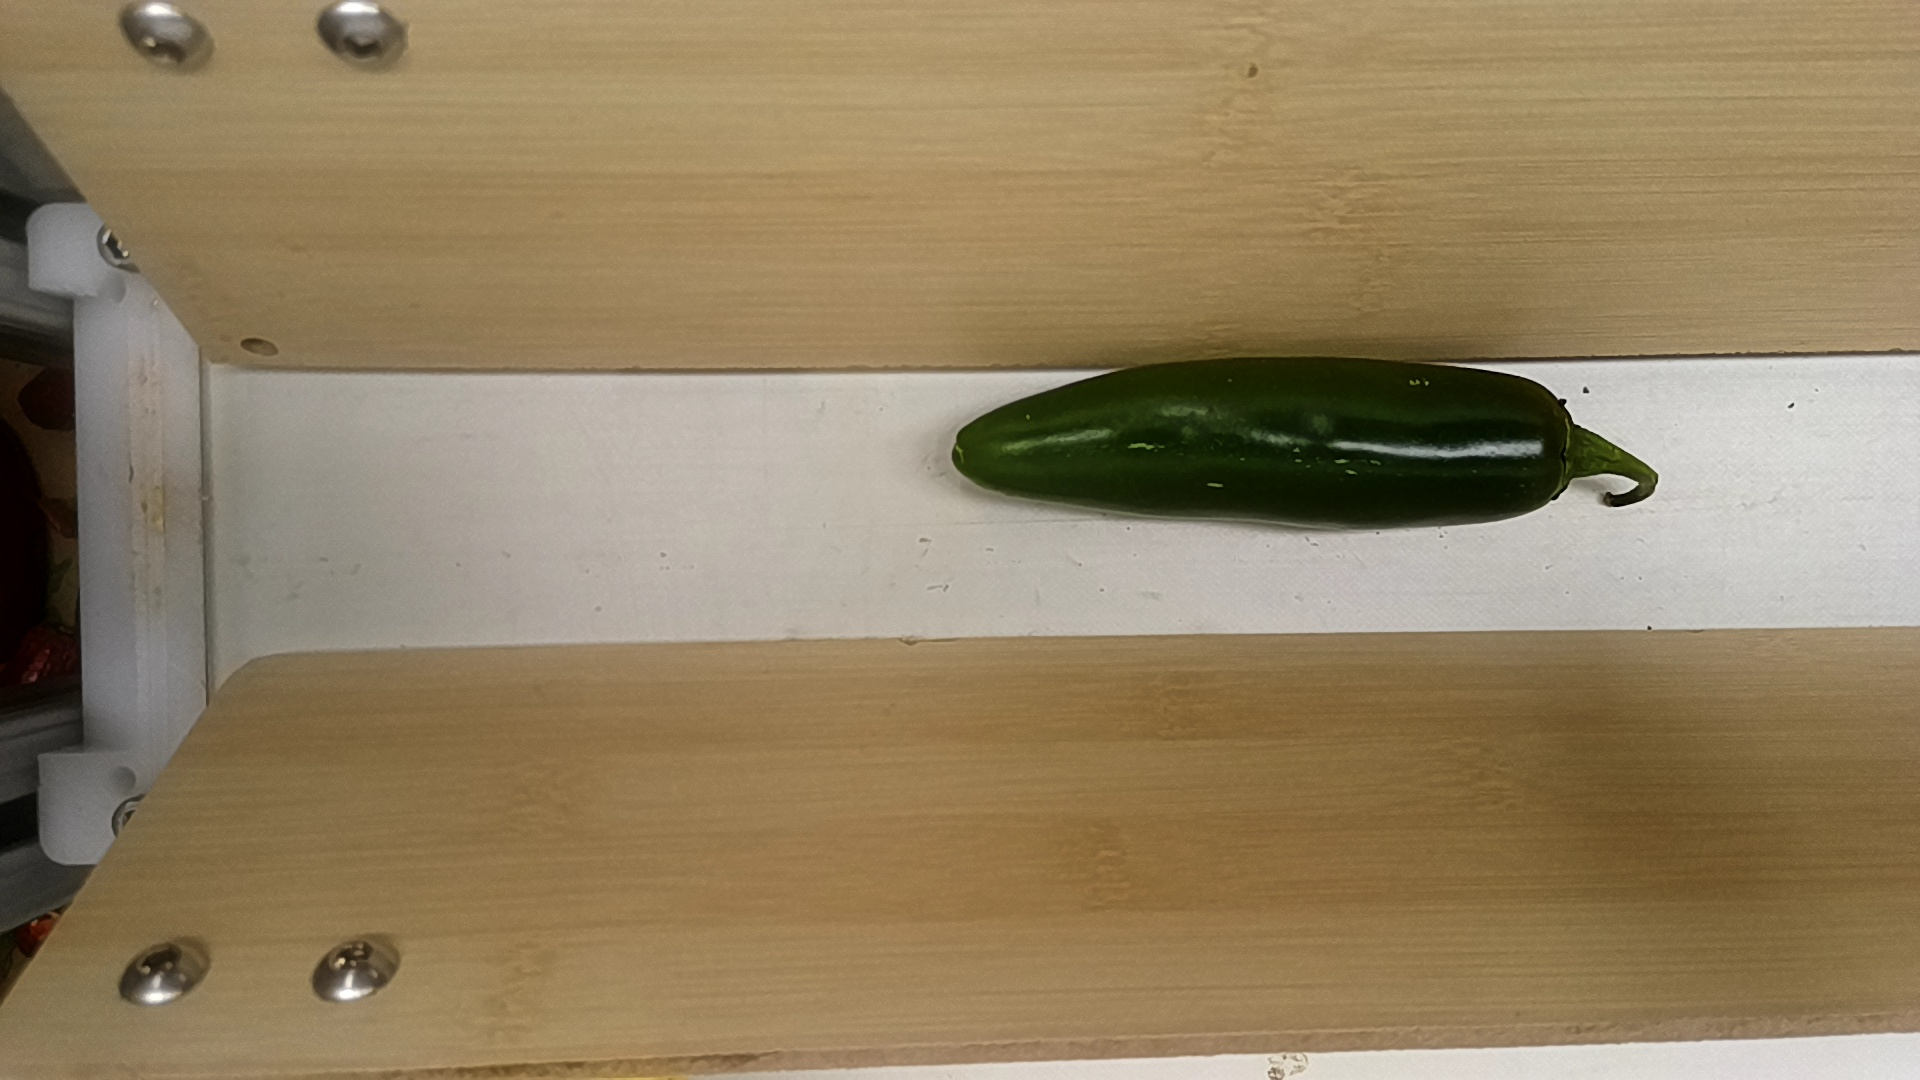Cut Point: (1513, 373, 1598, 524)
